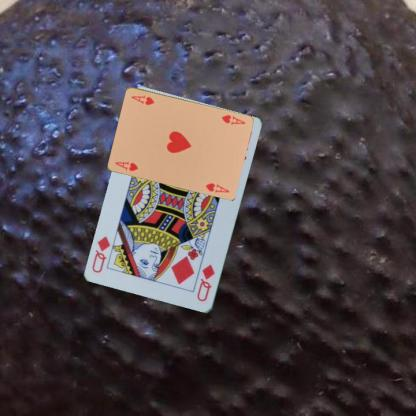Ah: (219, 112, 246, 126), (112, 159, 139, 172)
Qd: (194, 262, 216, 303)
